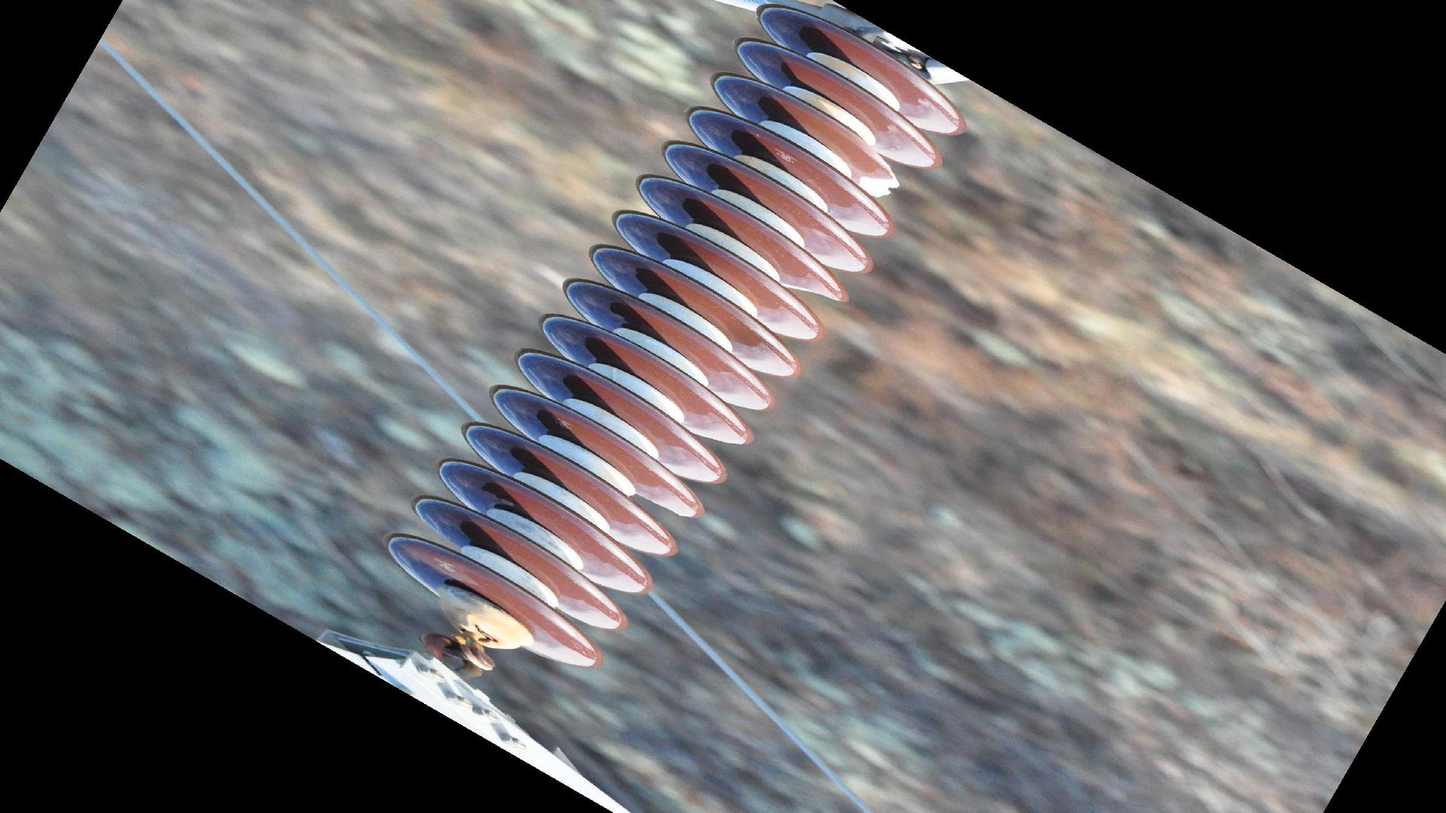insulator: (381, 1, 971, 677)
insulator_breakage: (856, 161, 902, 203)
